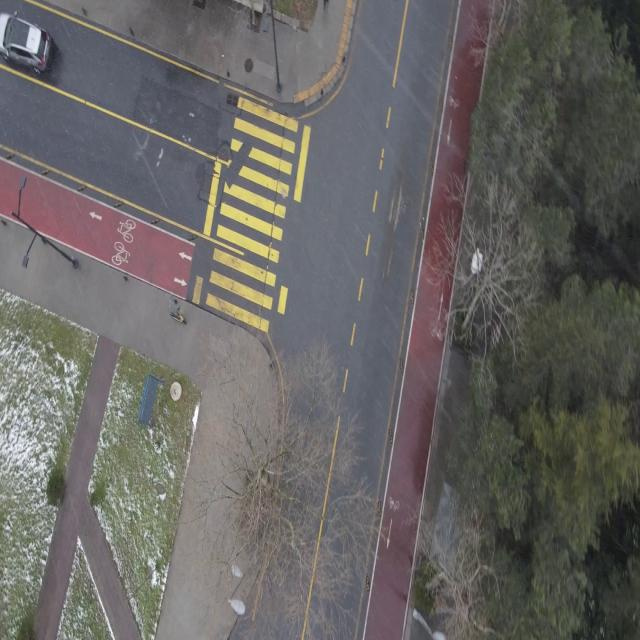p3rson: (319, 0, 331, 10)
